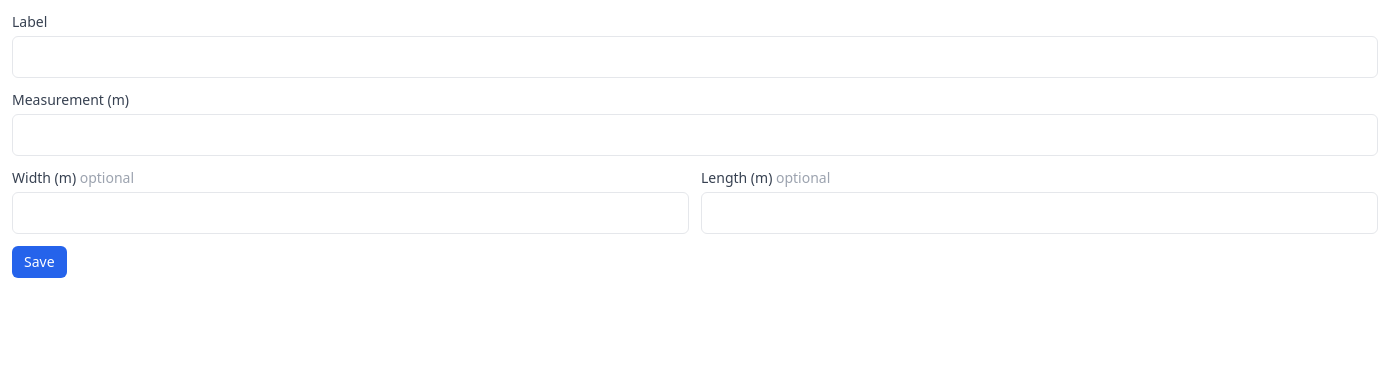
Scenario: SegmentForm › rejects zero measurement
This screenshot has width=1390, height=365.
In the field labelled "Label": (695, 57) [12, 36, 1378, 78], type "X"
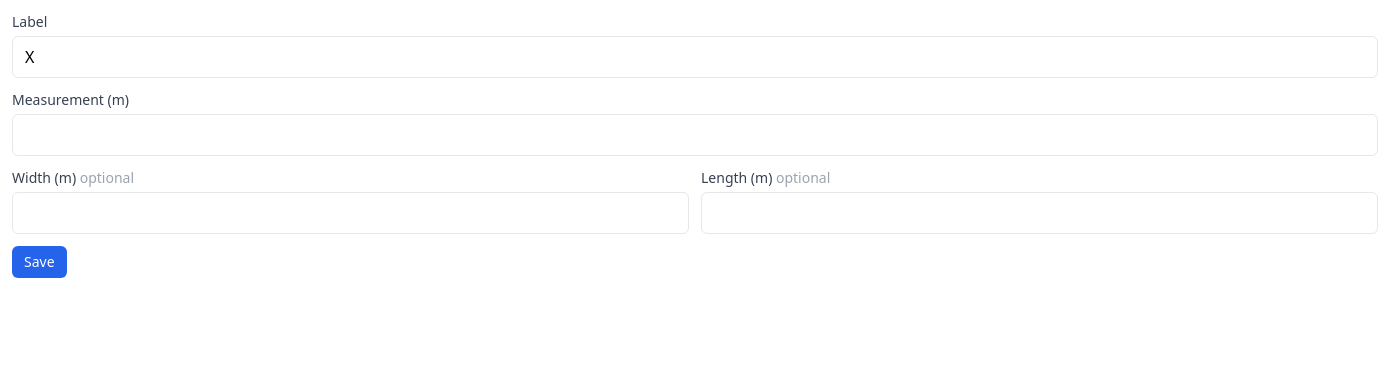
In the number field labelled "Measurement (m)": (695, 135) [12, 114, 1378, 156], type "0"
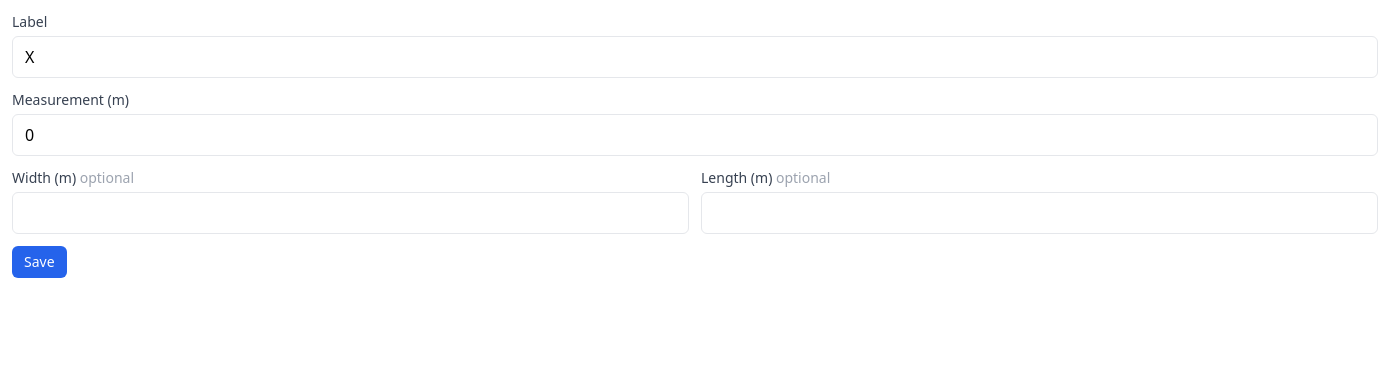
Submit the form named "Segment form"
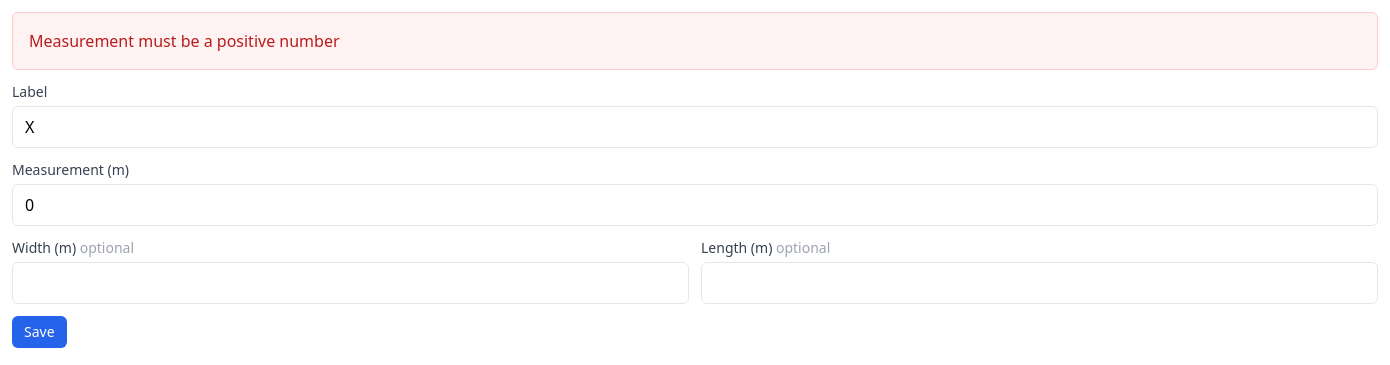
Result: the message shows "positive" at [29, 30, 340, 52]
